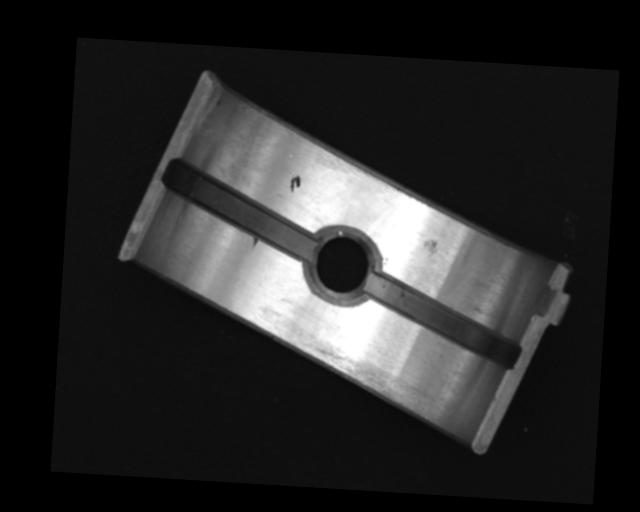blot: (289, 173, 302, 195)
bruise: (421, 238, 438, 257), (251, 236, 260, 249)
gap: (162, 160, 320, 261), (361, 276, 522, 369)
hole: (304, 225, 380, 307)
scratch: (287, 336, 450, 424)
